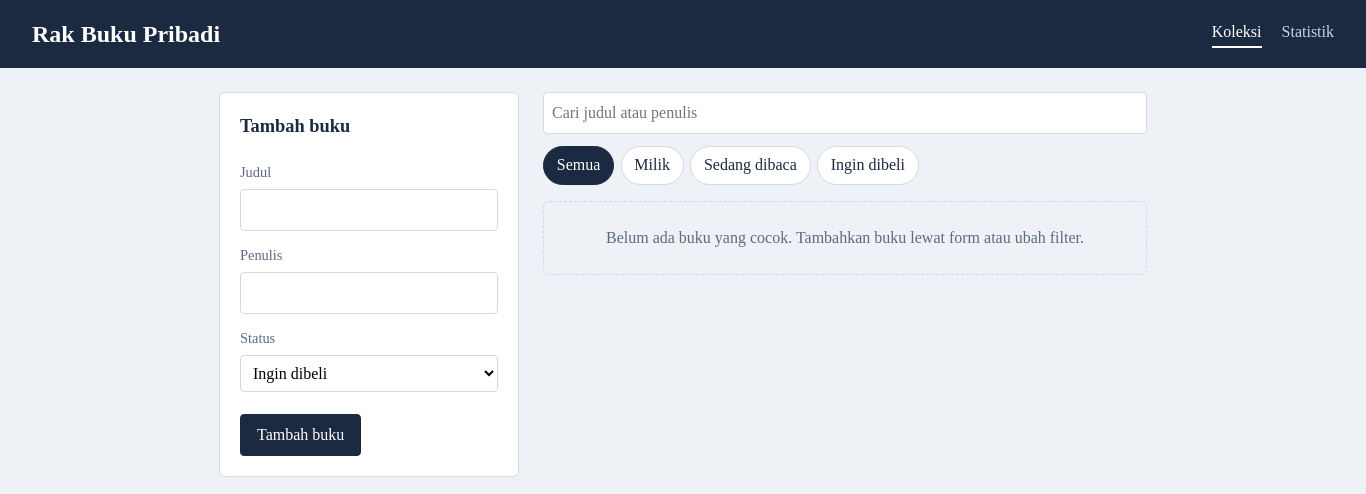
Scenario: App (integrasi) › menambah buku lalu mencari berdasarkan penulis
This screenshot has width=1366, height=494.
In the field labelled "Judul": point(369, 210) x1=240 y1=189 x2=498 y2=231, type "Bumi"
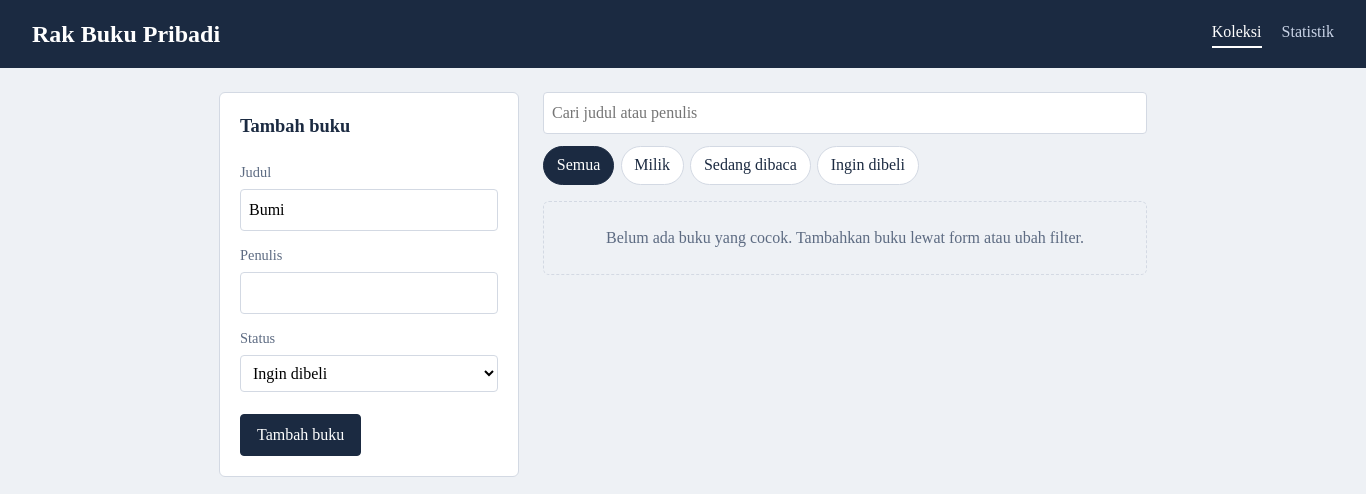
In the field labelled "Penulis": point(369, 293) x1=240 y1=272 x2=498 y2=314, type "Tere Liye"
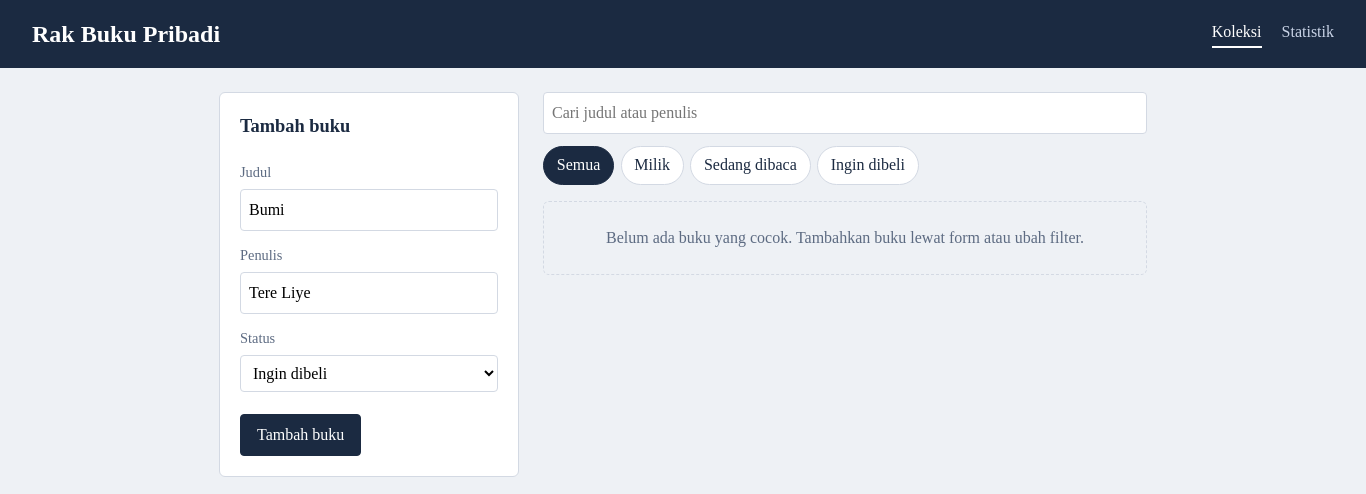
Click the button "Tambah buku": point(301, 435) x1=240 y1=414 x2=361 y2=456
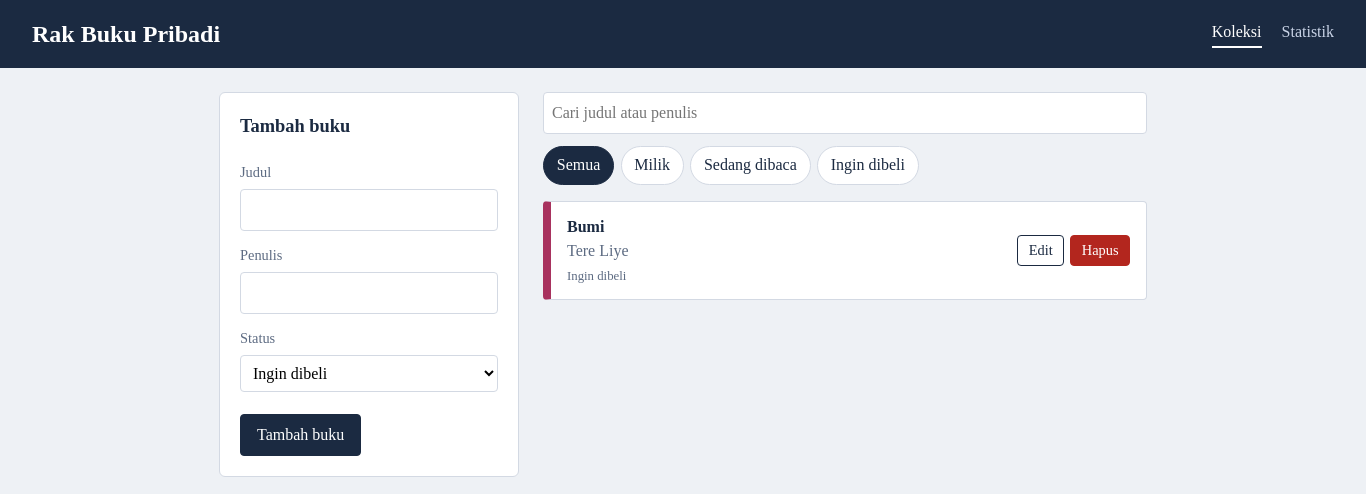
Expected: the text "Bumi" is shown, x1=567 y1=218 x2=604 y2=235
In the search field named "Cari buku": point(845, 113) x1=543 y1=92 x2=1147 y2=134, type "xyz"
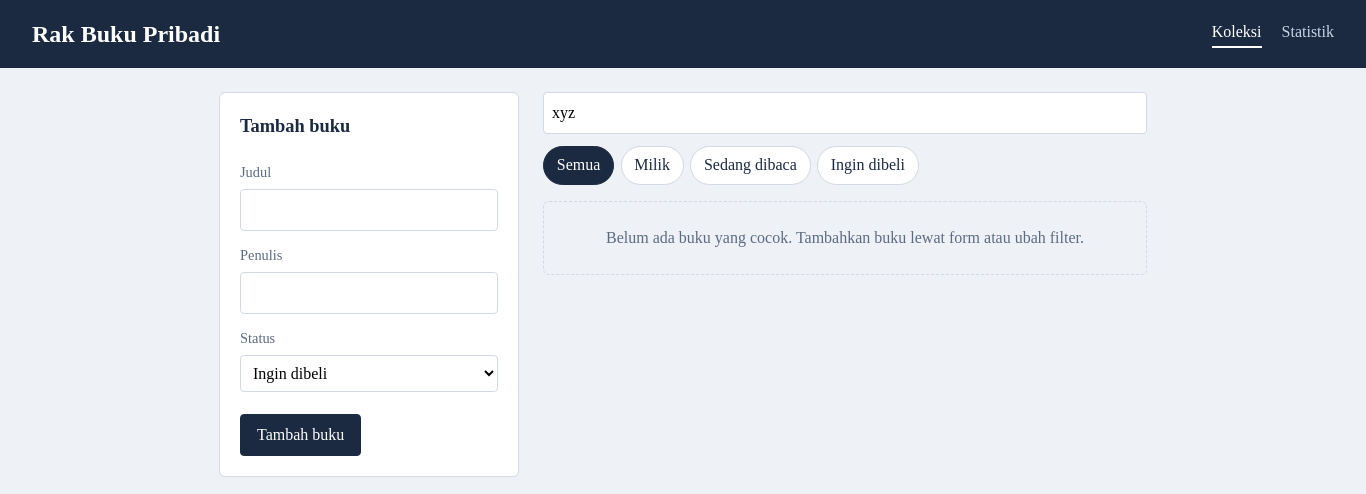
Expected: the text "Bumi" is gone
Replace the text in the search field named "Cari buku" with "tere": point(845, 113) x1=543 y1=92 x2=1147 y2=134
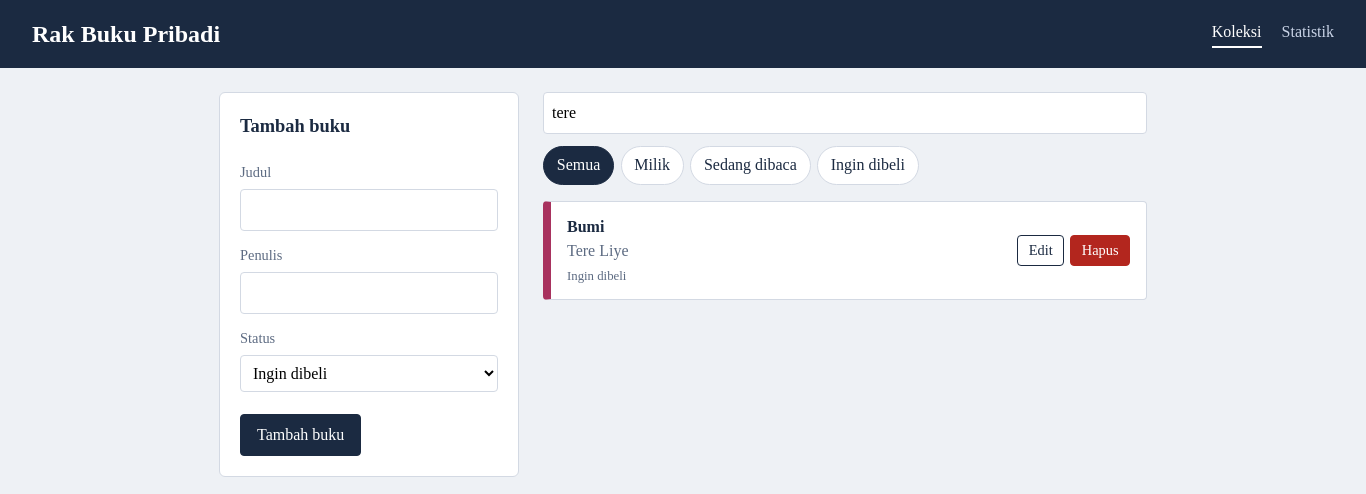
Expected: the text "Bumi" is shown, x1=567 y1=218 x2=604 y2=235
